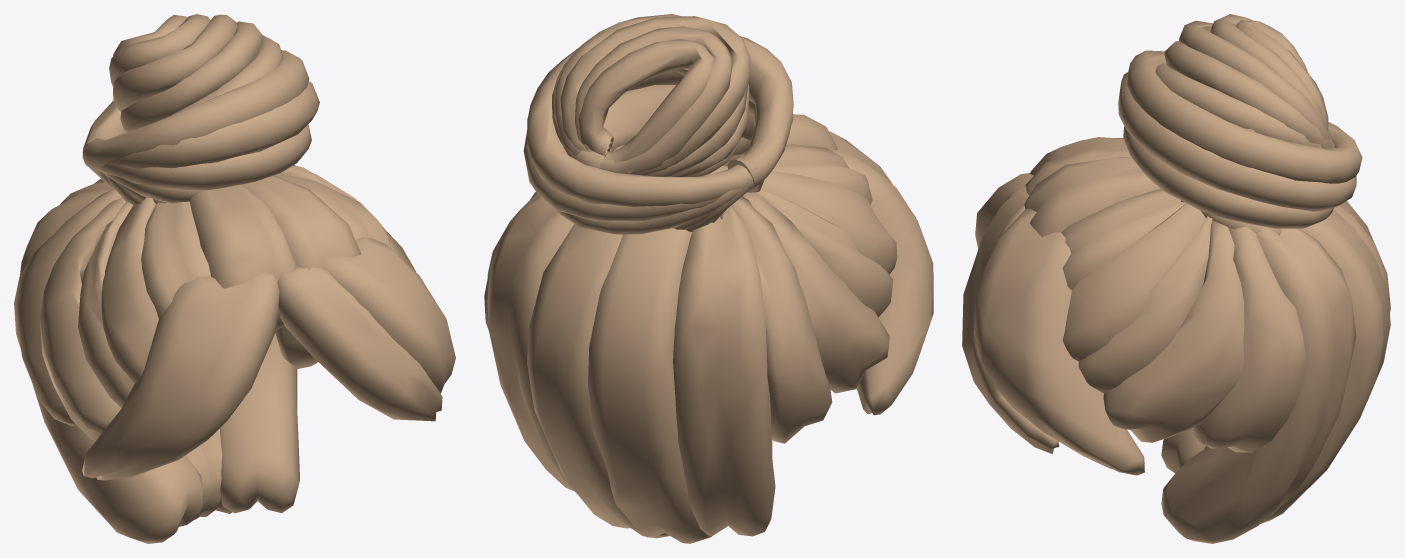
Rendered from hair-8-b44e557e.glb.
3 renders of one model, left to right at view 1: azimuth 30°, elevation 25°; view 2: azimuth 150°, elevation 25°; view 3: azimuth 270°, elevation 25°, orthographic. The views are drawn at different scales.
Visible parts, largest first — view 1: Geo_White_Older_Female_Hair_8.001; view 2: Geo_White_Older_Female_Hair_8.001; view 3: Geo_White_Older_Female_Hair_8.001.
Part boxes in pixels (x1=…): Geo_White_Older_Female_Hair_8.001: x1=14, y1=14, x2=455, y2=543; Geo_White_Older_Female_Hair_8.001: x1=484, y1=14, x2=933, y2=543; Geo_White_Older_Female_Hair_8.001: x1=962, y1=14, x2=1390, y2=543.
Size of the model in its own units: 1.61 by 2.25 by 1.82.
